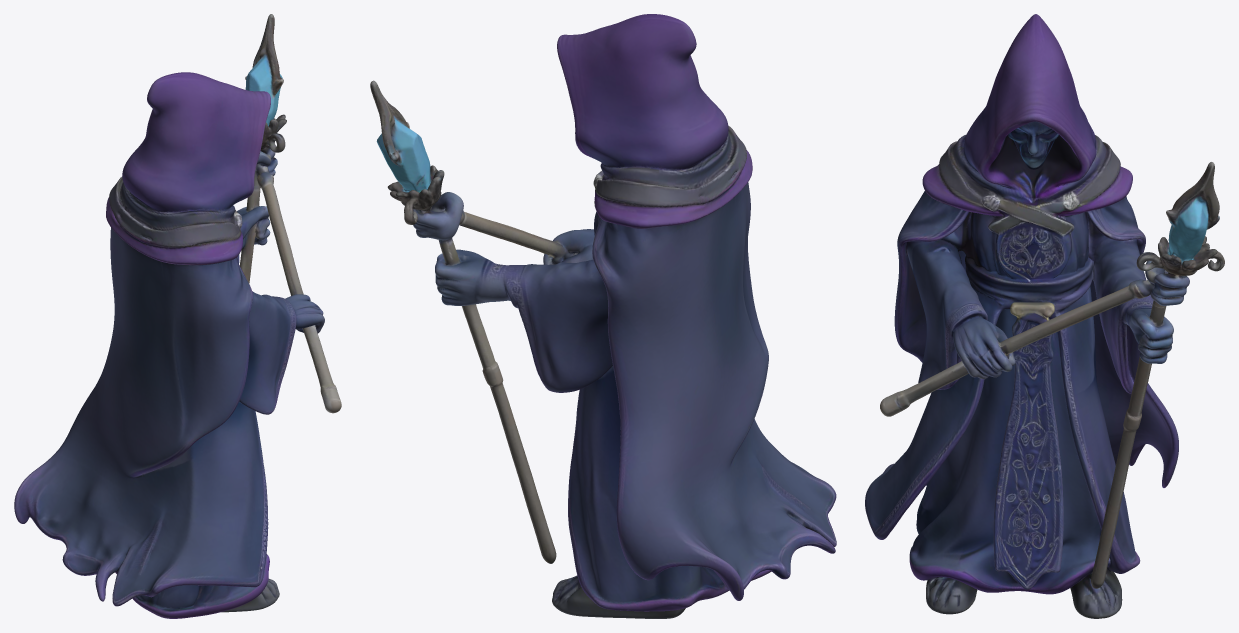
3 views of the same model, side by side, from view 1: azimuth 30°, elevation 25°; view 2: azimuth 150°, elevation 25°; view 3: azimuth 270°, elevation 25° (orthographic). The views are drawn at different scales.
Visible parts, largest first — view 1: tripo_node_b6f5a401-6d4a-40ea-b085-64a956c477b2; view 2: tripo_node_b6f5a401-6d4a-40ea-b085-64a956c477b2; view 3: tripo_node_b6f5a401-6d4a-40ea-b085-64a956c477b2.
Part boxes in pixels (bbox=[...]): tripo_node_b6f5a401-6d4a-40ea-b085-64a956c477b2: bbox=[14, 14, 341, 618]; tripo_node_b6f5a401-6d4a-40ea-b085-64a956c477b2: bbox=[370, 14, 836, 618]; tripo_node_b6f5a401-6d4a-40ea-b085-64a956c477b2: bbox=[865, 14, 1224, 618].
Size of the model in its own units: 0.6038 by 1 by 0.5788.
Materials: 1 (1 with a texture image).
